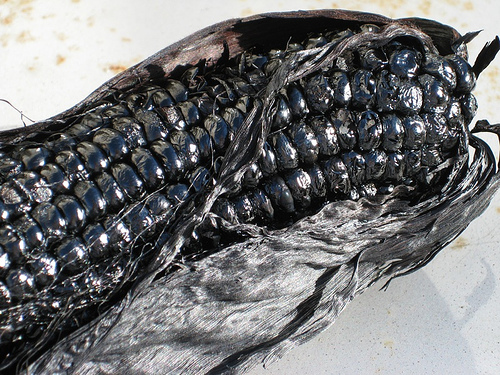corn: (1, 35, 476, 350)
